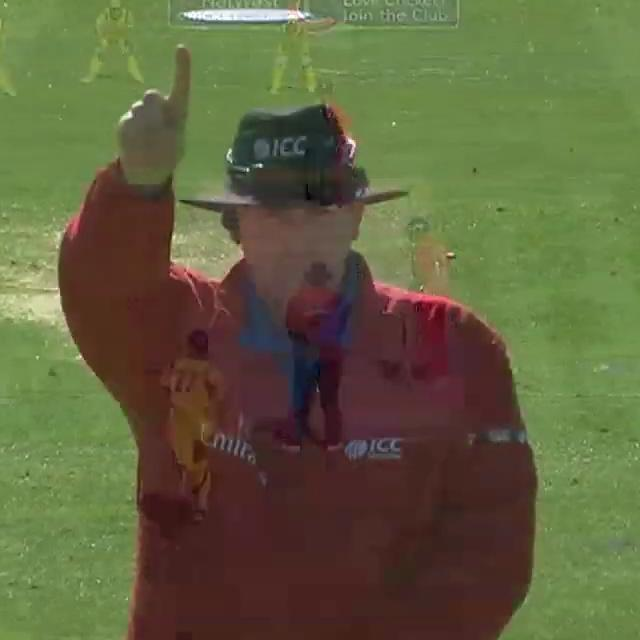umpire: (13, 50, 573, 640)
